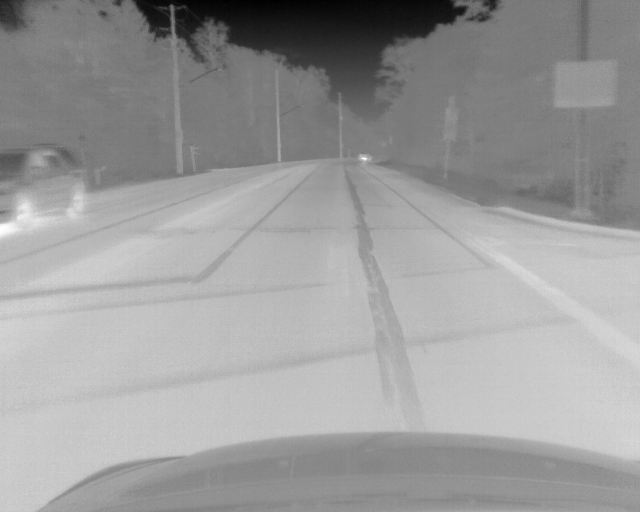car: (1, 144, 87, 233), (357, 151, 372, 163)
